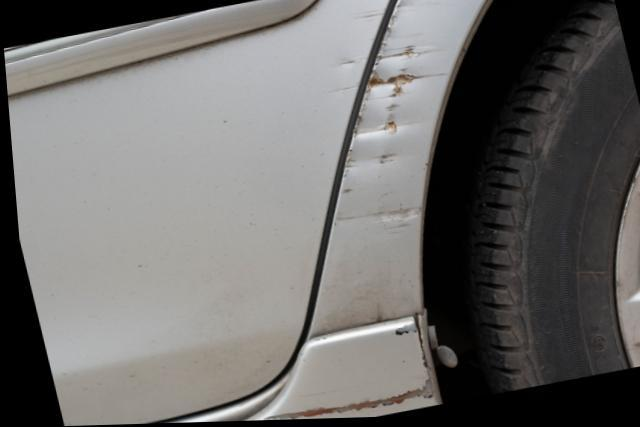crack: (255, 315, 429, 422)
scratch: (328, 3, 450, 236), (325, 9, 389, 95)
